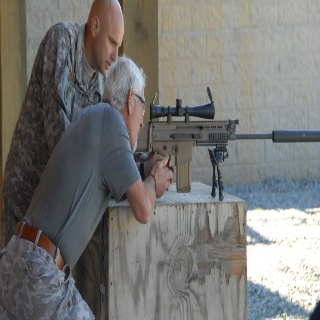rifle: (109, 86, 320, 206)
